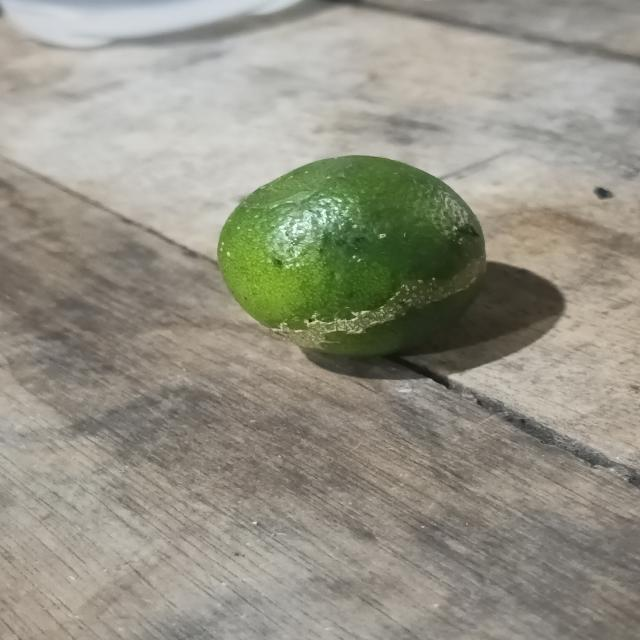thrips: (214, 155, 492, 359)
